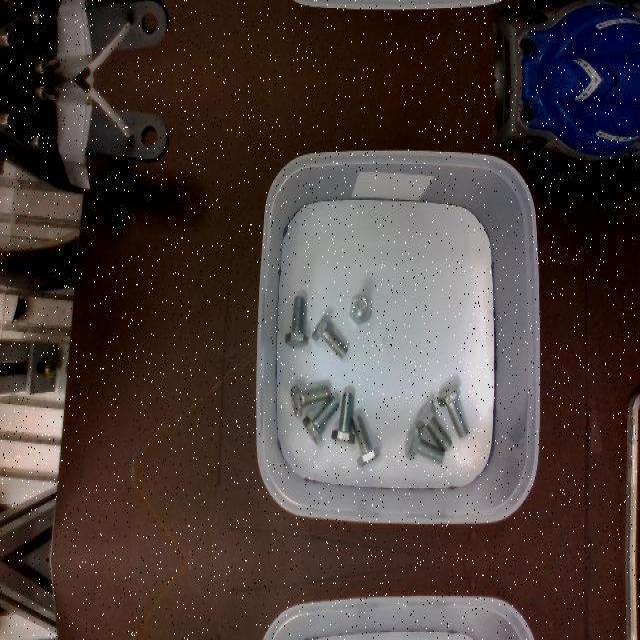screw: (414, 401, 452, 451), (302, 395, 339, 445), (437, 384, 469, 438), (311, 313, 347, 359), (350, 413, 380, 467), (404, 425, 444, 463), (290, 383, 330, 417), (331, 392, 355, 444), (284, 296, 308, 346), (349, 295, 371, 325)
